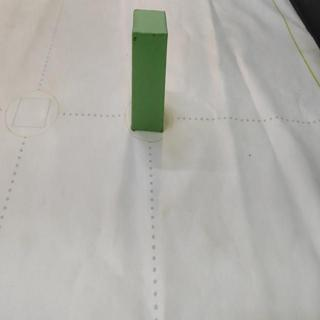greenbox: (129, 8, 169, 133)
